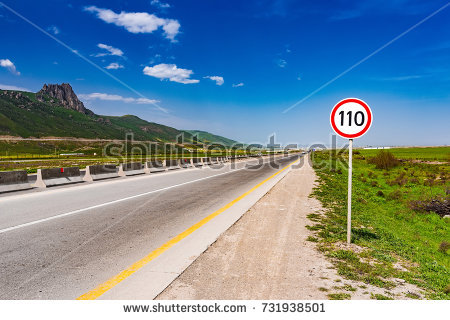Speed_limit_110km: (330, 97, 372, 138)
